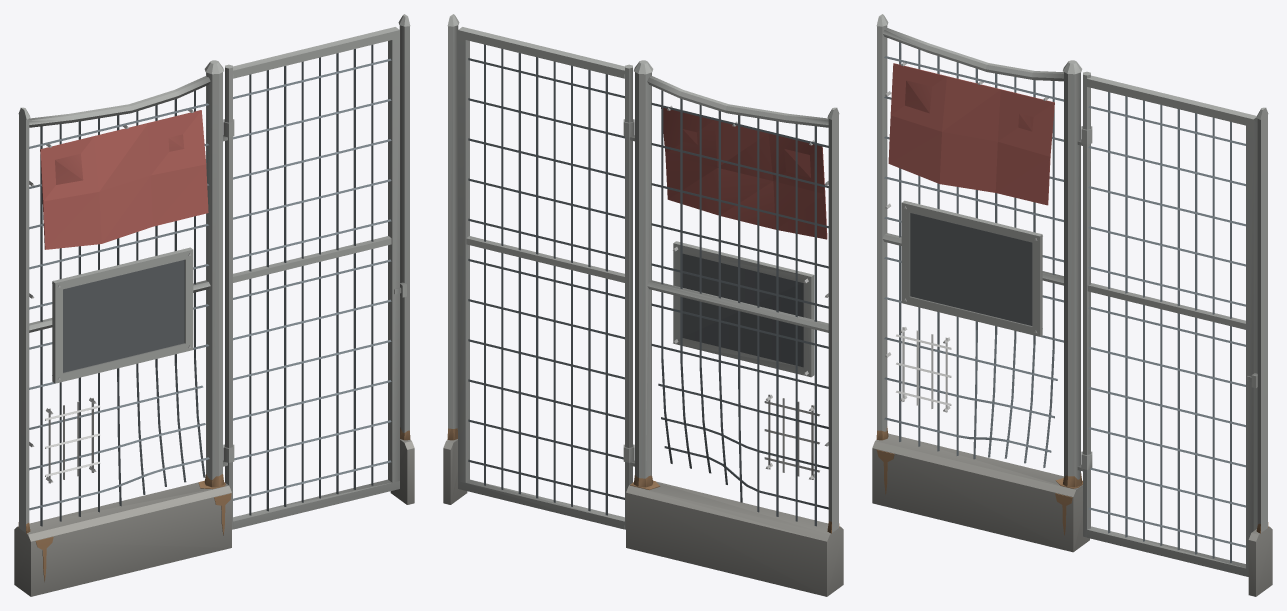
3 views of the same model, side by side, from view 1: azimuth 30°, elevation 25°; view 2: azimuth 150°, elevation 25°; view 3: azimuth 330°, elevation 25° (orthographic).
Parts seen in each view (by area): view 1: mesh; view 2: mesh; view 3: mesh.
Boxes of the visible parts, x1,y1,x2,y2 form: mesh: [14, 14, 414, 596]; mesh: [443, 14, 843, 596]; mesh: [872, 14, 1272, 596].
Size of the model in its own units: 2.4 by 2.88 by 0.1996.
